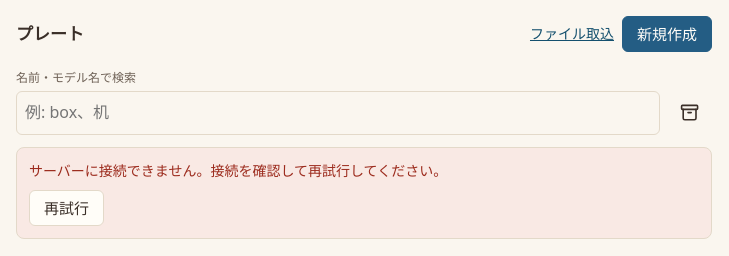
keeps a failed list retryable and distinguishes an empty collection
Expected: the message "サーバーに接続できません。接続を確認して再試行してください。" is shown, top-left (29, 161), bottom-right (447, 180)
Click the button "再試行" at point(66, 208), box top-left (29, 190), bottom-right (104, 226)
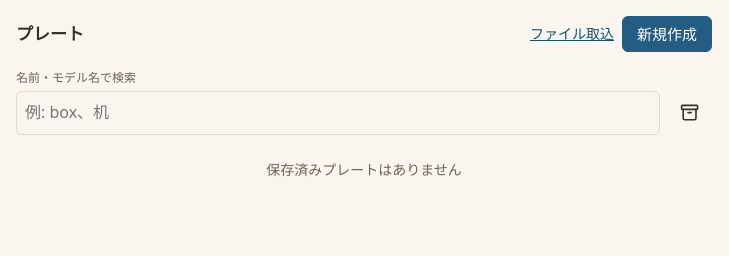
Now the text "保存済みプレートはありません" is shown, box top-left (266, 160), bottom-right (462, 179)
